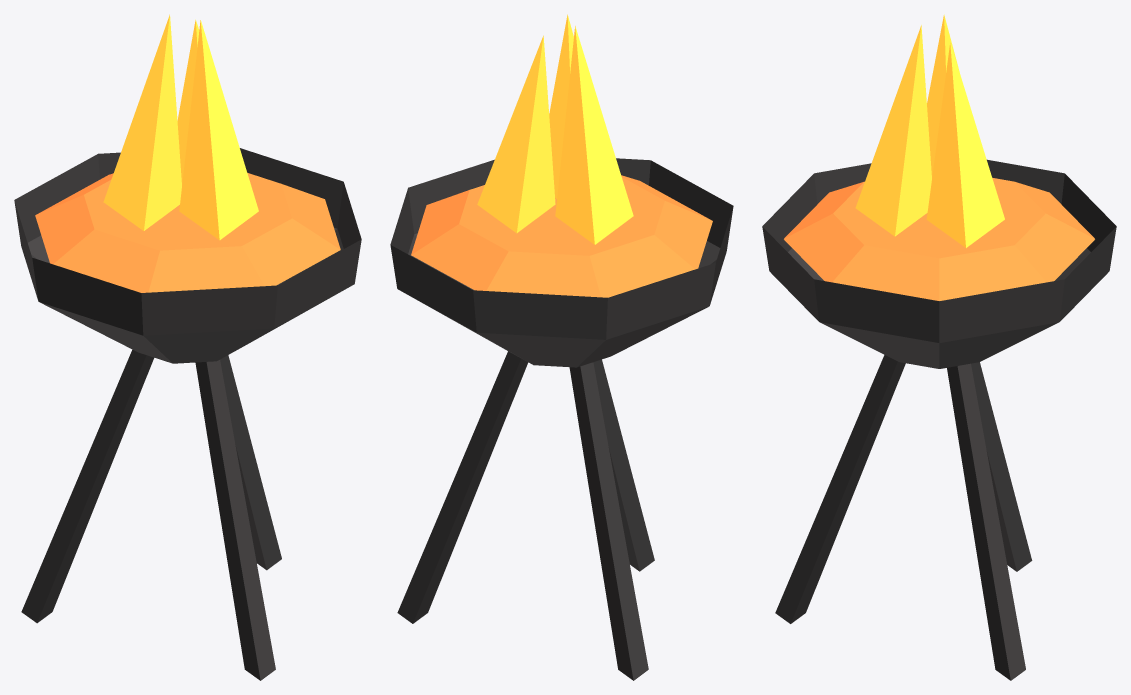
File: PR_Brazier.fbx
3 renders of one model, left to right at view 1: azimuth 30°, elevation 25°; view 2: azimuth 150°, elevation 25°; view 3: azimuth 270°, elevation 25°, orthographic.
Visible parts, largest first — view 1: PR_Brazier; view 2: PR_Brazier; view 3: PR_Brazier.
Boxes of the visible parts, box(x1,y1,x2,y2) form: PR_Brazier: box(14, 14, 361, 680); PR_Brazier: box(390, 14, 733, 680); PR_Brazier: box(762, 14, 1116, 680).
Size of the model in its own units: 1 by 1.86 by 1.
